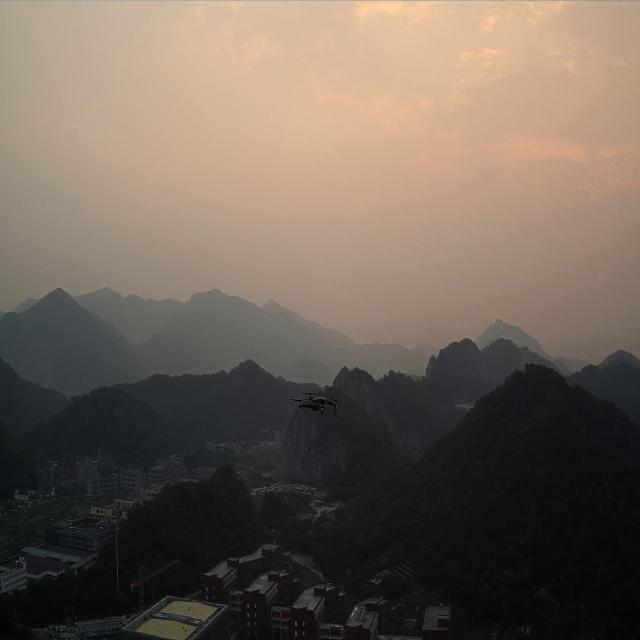UAV: (288, 390, 340, 416)
